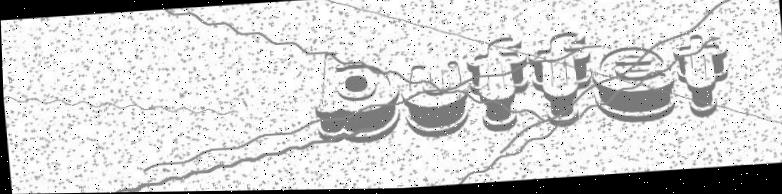b: (305, 44, 403, 150)
e: (591, 39, 677, 128)
f: (463, 37, 539, 135), (529, 28, 600, 132)
t: (669, 36, 737, 121)
u: (399, 53, 470, 141)
